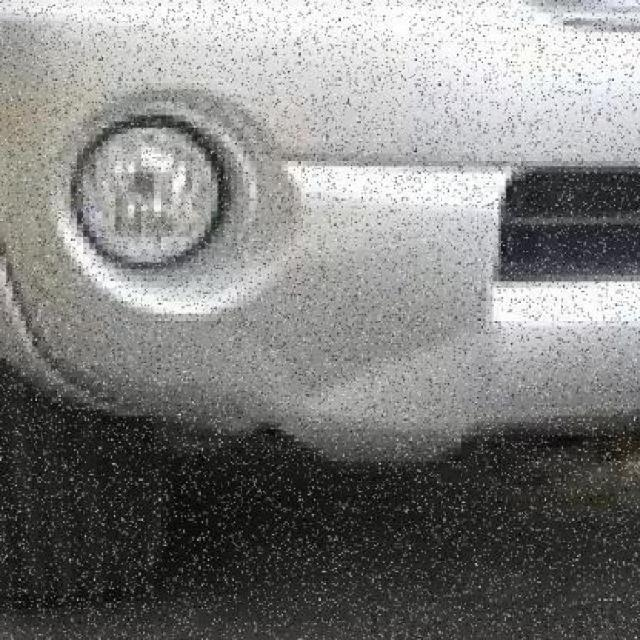front-bumper-dent: (0, 199, 634, 487)
